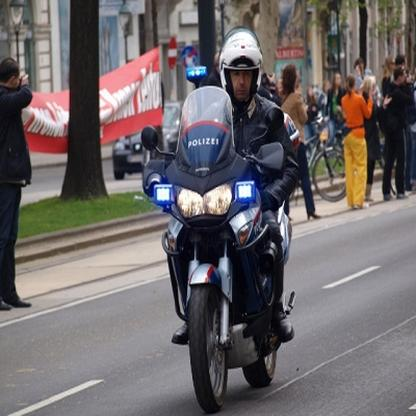target: (139, 25, 312, 412)
